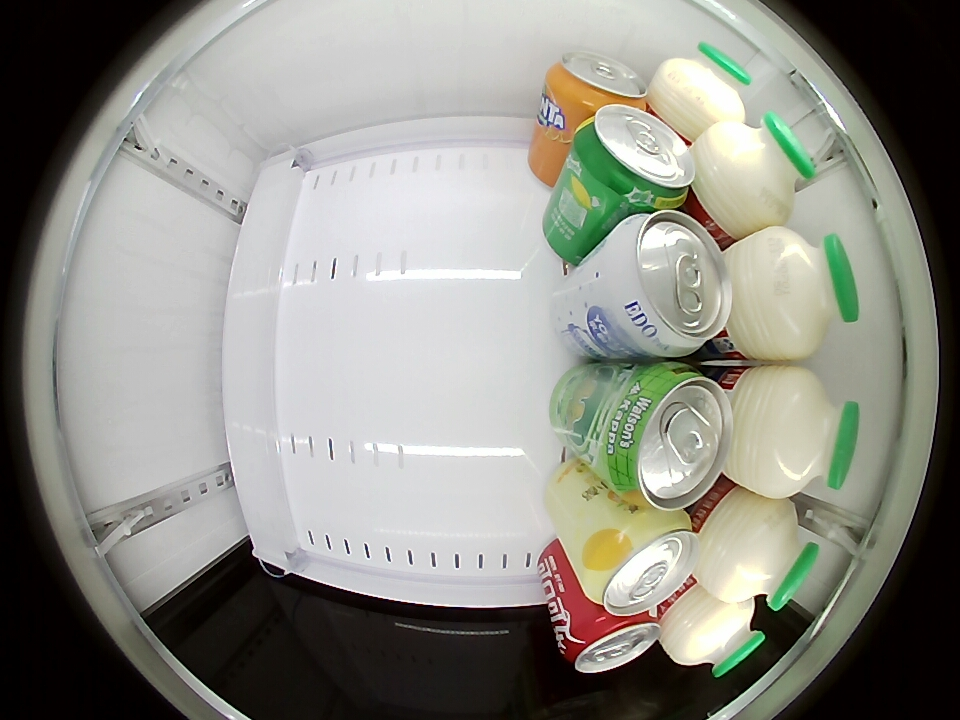fenda: (546, 51, 648, 115)
kele: (560, 610, 660, 673)
liziyuan: (730, 227, 860, 362), (730, 365, 861, 498), (698, 491, 822, 613), (695, 113, 815, 233), (661, 588, 766, 679), (650, 43, 750, 135)
mangguoxiaolao: (580, 509, 698, 616)
quchenshixiangcao: (605, 362, 730, 510)
rusuanjunqishui: (602, 209, 731, 358)
xuebi2: (573, 105, 695, 210)
